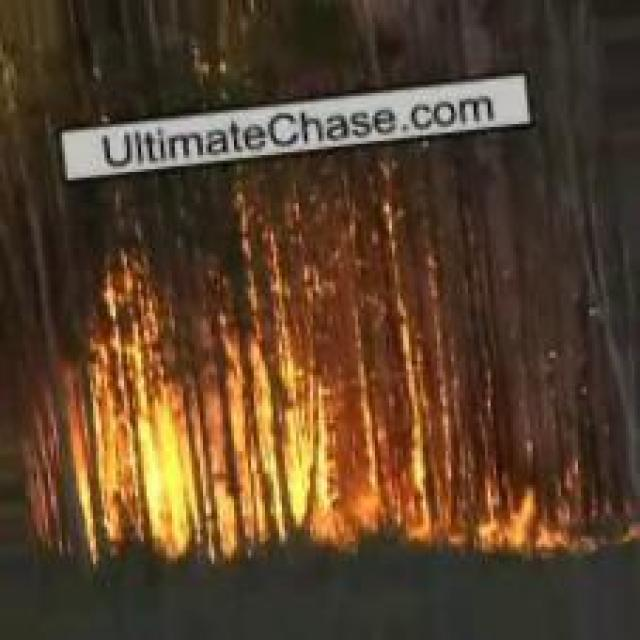fire: (13, 206, 616, 558)
